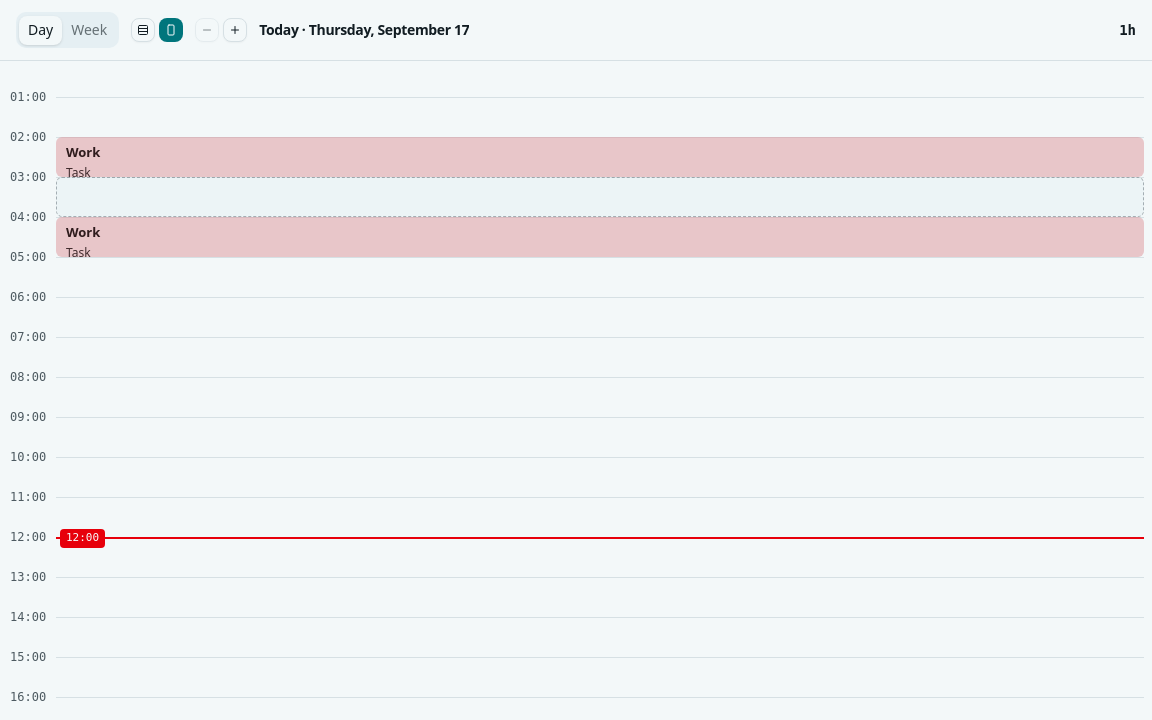
Test: Timeline 拖拽创建（day 视图） › 移动端：点击 gap 插槽可打开新建草稿编辑器（触屏唯一创建路径）
Click the element with class "timeline-slot" at (600, 197), box [56,177,1144,217]
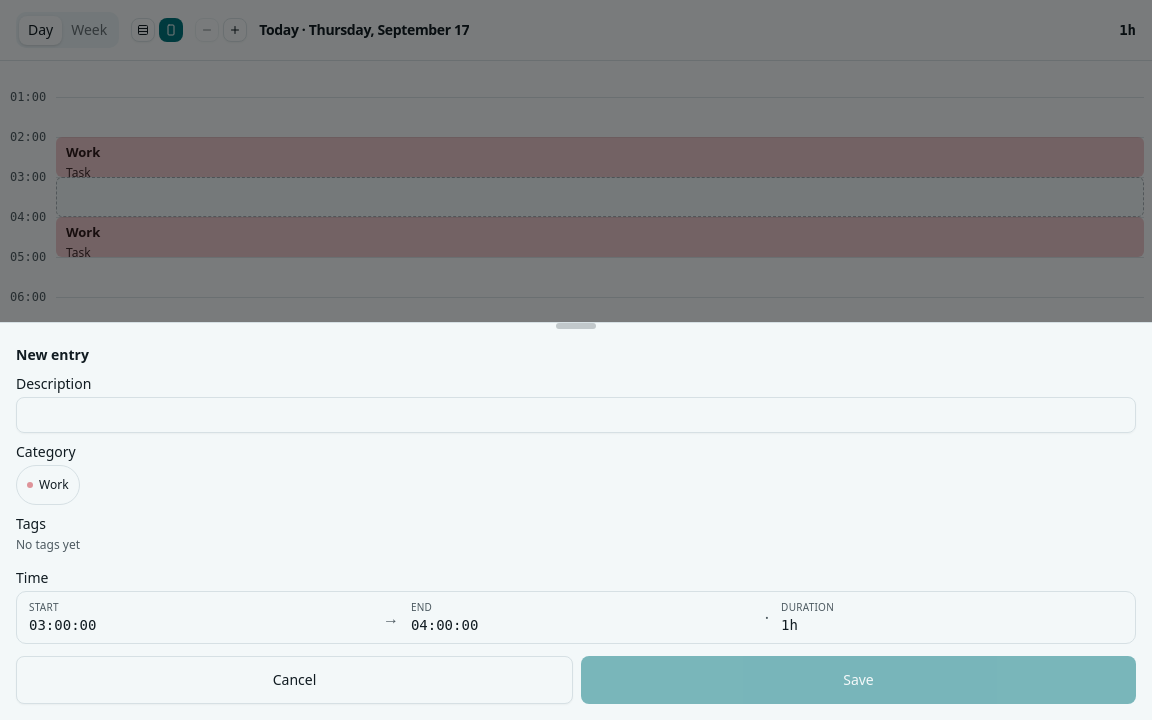
Result: the dialog is shown at [0,322,1151,719]
